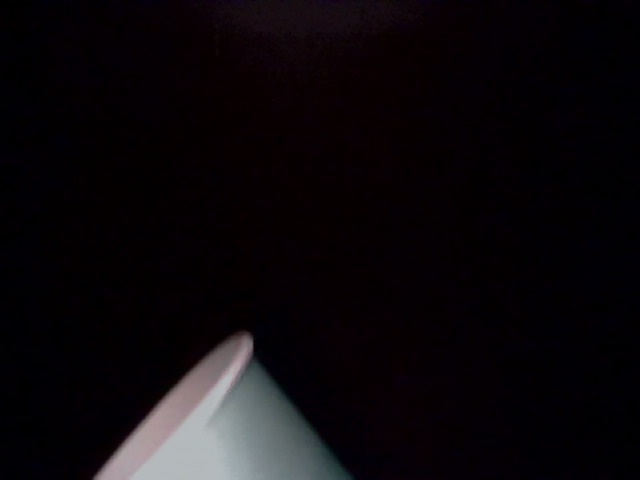CYLJ: (242, 1, 351, 98)
